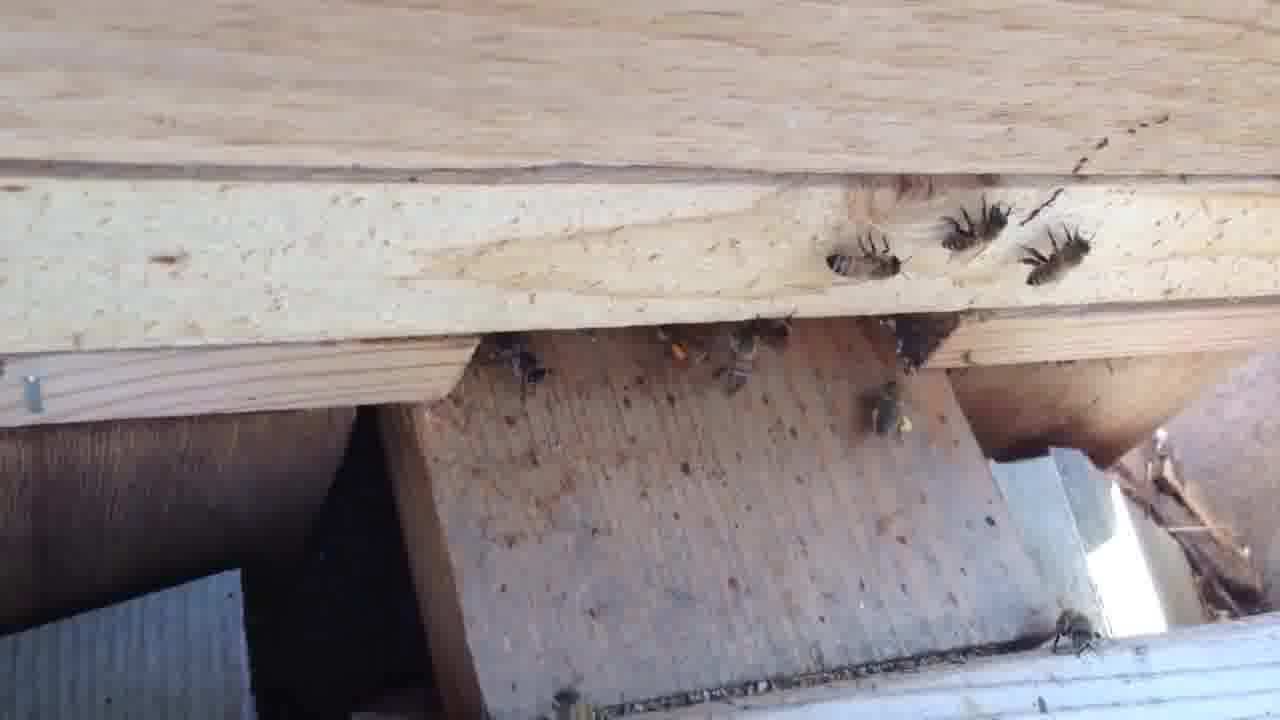pollen: (865, 373, 920, 444)
